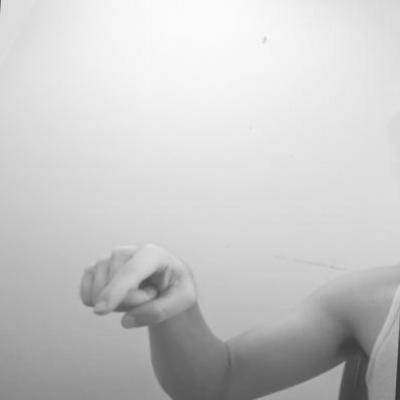hand: (73, 237, 204, 336)
